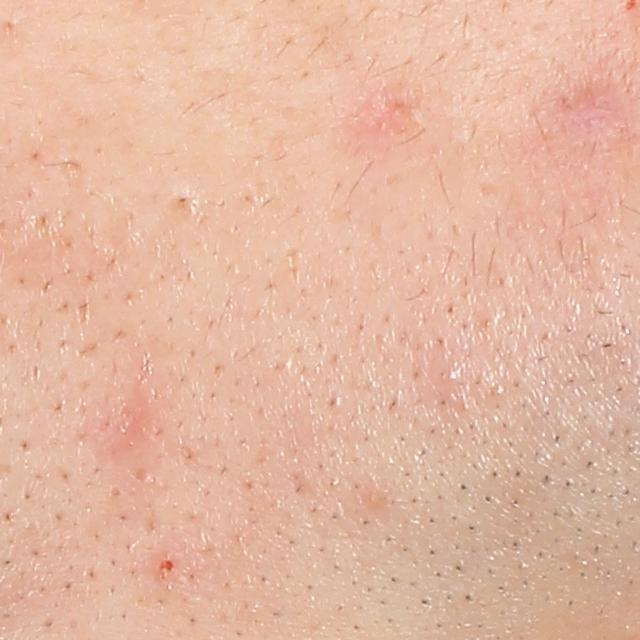atrophic_scar: (163, 188, 202, 220)
